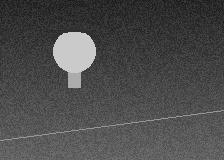no_helmet: (53, 28, 95, 77)
